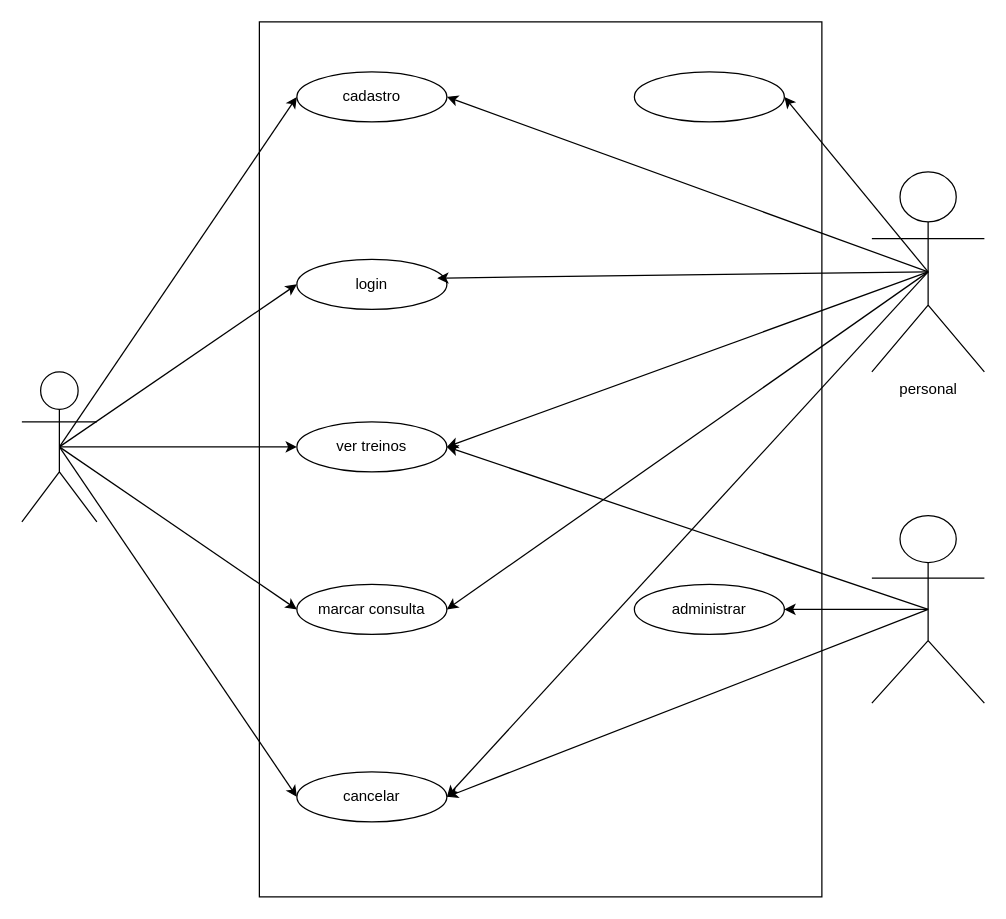
Some shapes in this 1006 by 919 pixel diagram are drawn without their labels. The shapes that lost their labels are listed below. From the top down, each one's centre as x and y in pixels, then its label:
(708,96): criar treino
(59,446): usuário
(927,608): administrador
